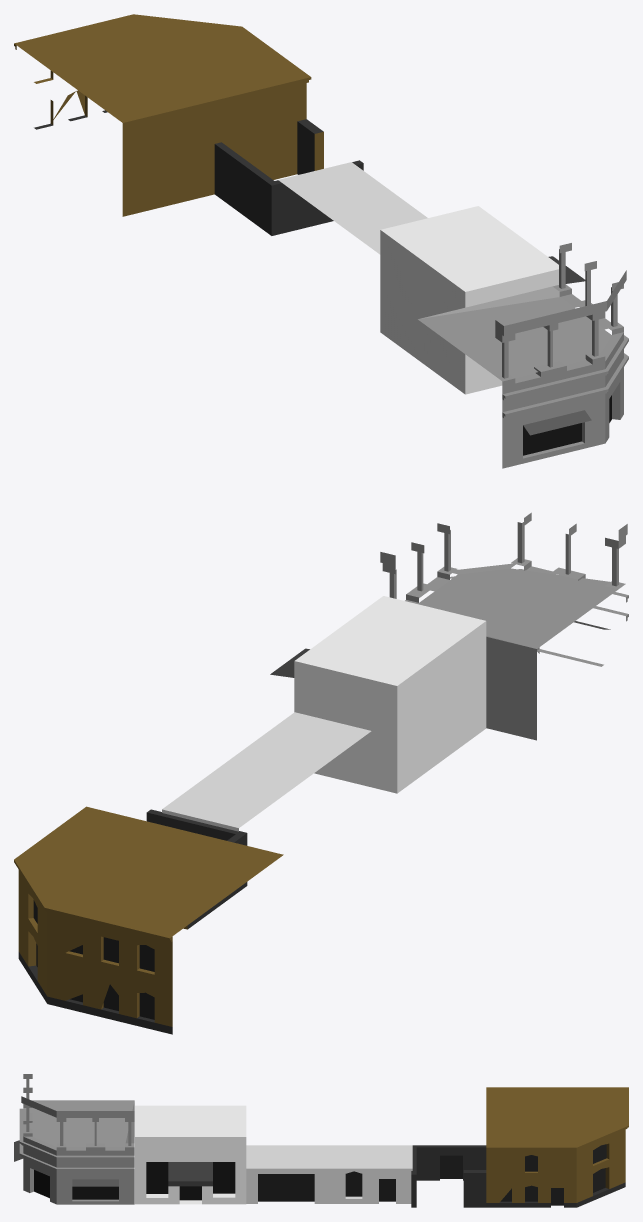
File: Edificio-6-Derecha.glb
The picture shows the model from 3 angles, top to bottom: view 1: azimuth 30°, elevation 25°; view 2: azimuth 150°, elevation 25°; view 3: azimuth 270°, elevation 25°; orthographic projection. The views are drawn at different scales.
Visible parts, largest first — view 1: Plane, Plane4, Plane3, Plane2; view 2: Plane, Plane3, Plane4, Plane2; view 3: Plane, Plane4, Plane3, Plane2.
Boxes of the visible parts, x1,y1,x2,y2 form: Plane: (14, 14, 363, 235); Plane4: (418, 243, 628, 468); Plane3: (380, 206, 585, 394); Plane2: (278, 162, 427, 254); Plane: (14, 806, 283, 1034); Plane3: (270, 596, 486, 793); Plane4: (380, 512, 628, 740); Plane2: (162, 712, 371, 831); Plane: (411, 1087, 628, 1207); Plane4: (14, 1074, 134, 1204); Plane3: (135, 1105, 246, 1204); Plane2: (246, 1145, 412, 1203).
Size of the model in its own units: 24.14 by 14.93 by 88.34.
